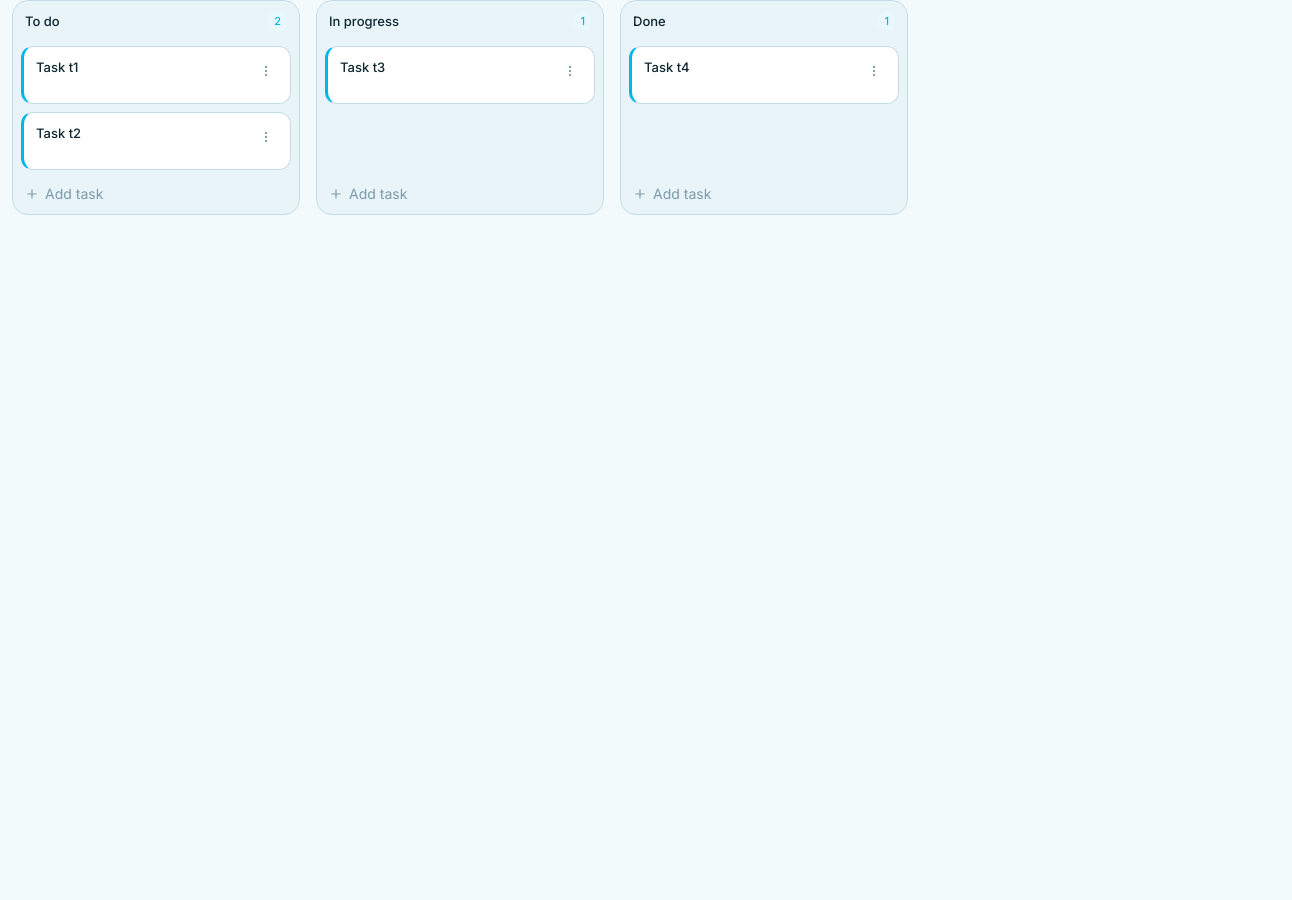
Test: BoardView › selection is cleared after a bulk action
Step 1. Click the element with test id "card-t1" → (156, 74), box [21,46,291,104]
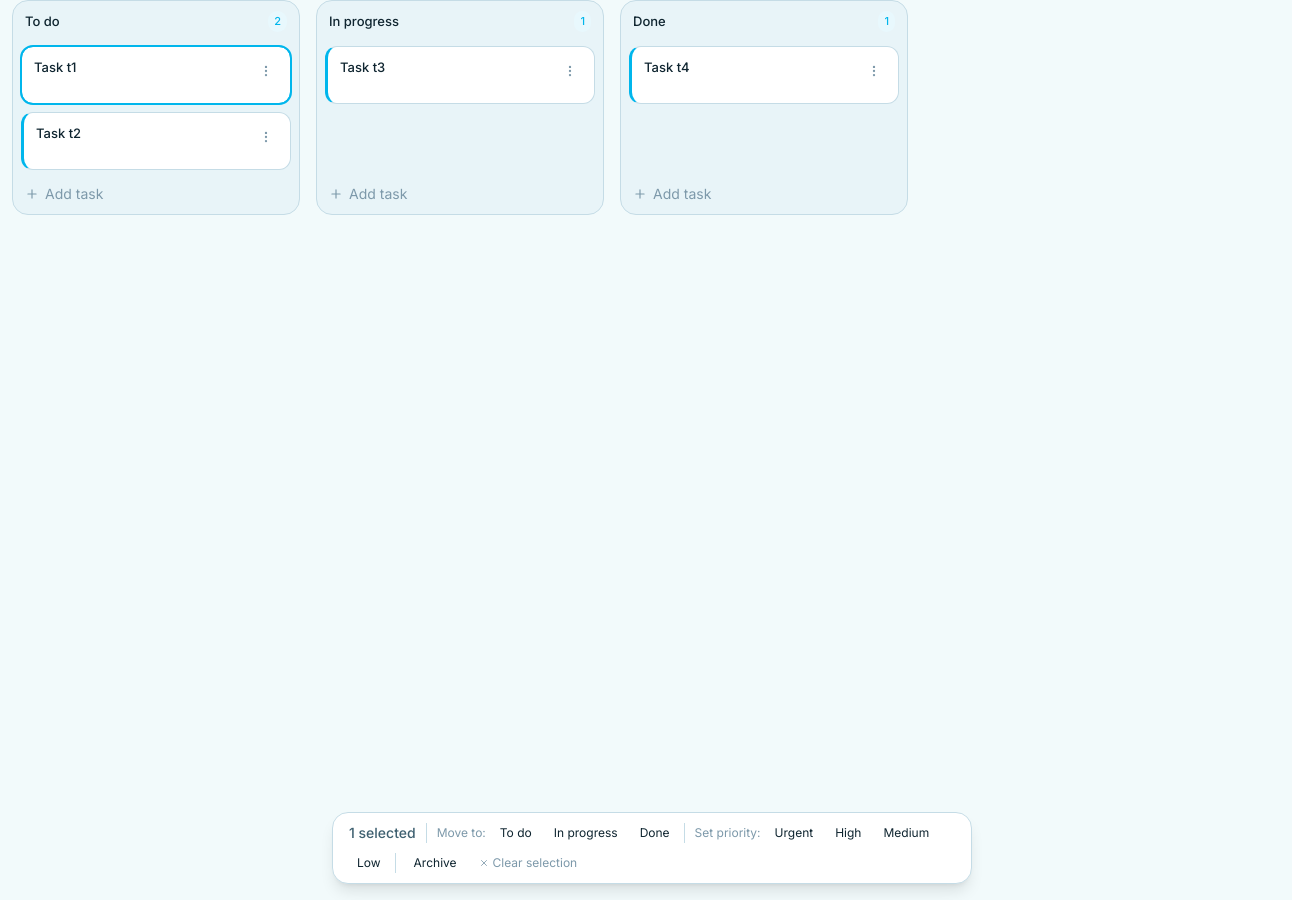
Now the element with test id "bulk-action-bar" is shown, box [332,812,972,884]
Step 2. Click the button "Archive" → (435, 863), box [406,851,465,875]
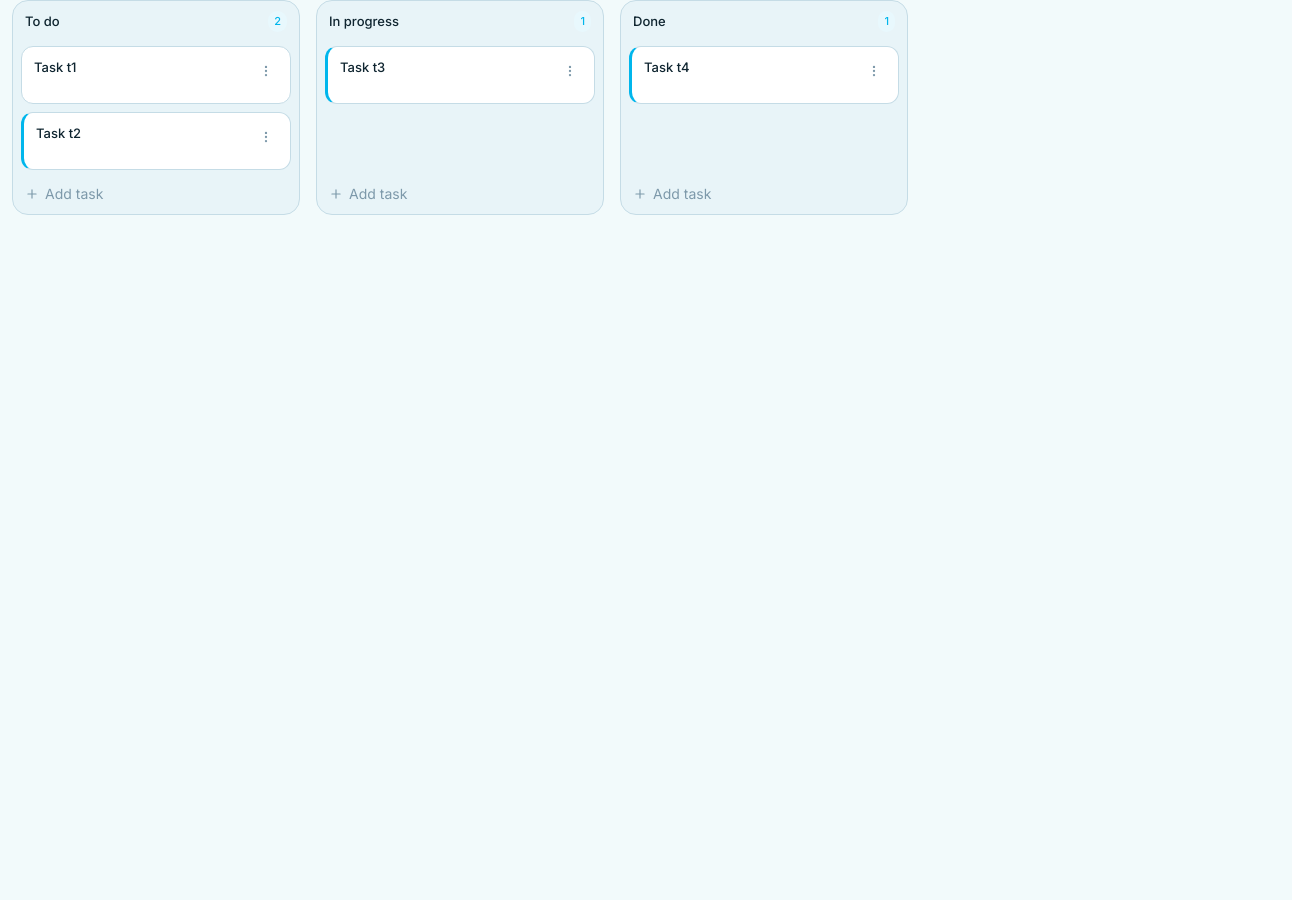
Now the element with test id "bulk-action-bar" is gone
